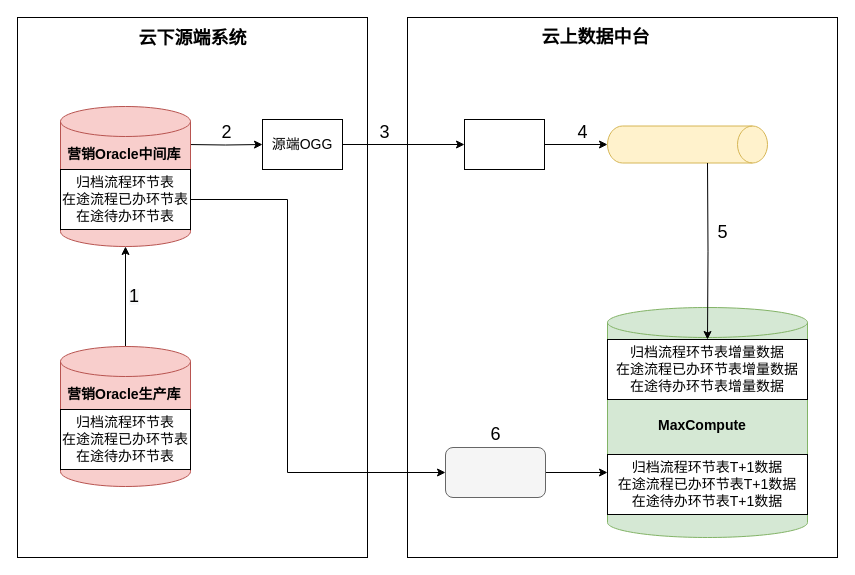
Image size: 855x575. Some labels were removed from this diagram. The shapes that lost their labels are listed below. From the top down, each one's centre as x and y in pixels, then its label:
At [504,144]: "目标端OGG".
At [687,144]: "Datahub".
At [495,472]: "Datawork DI".
